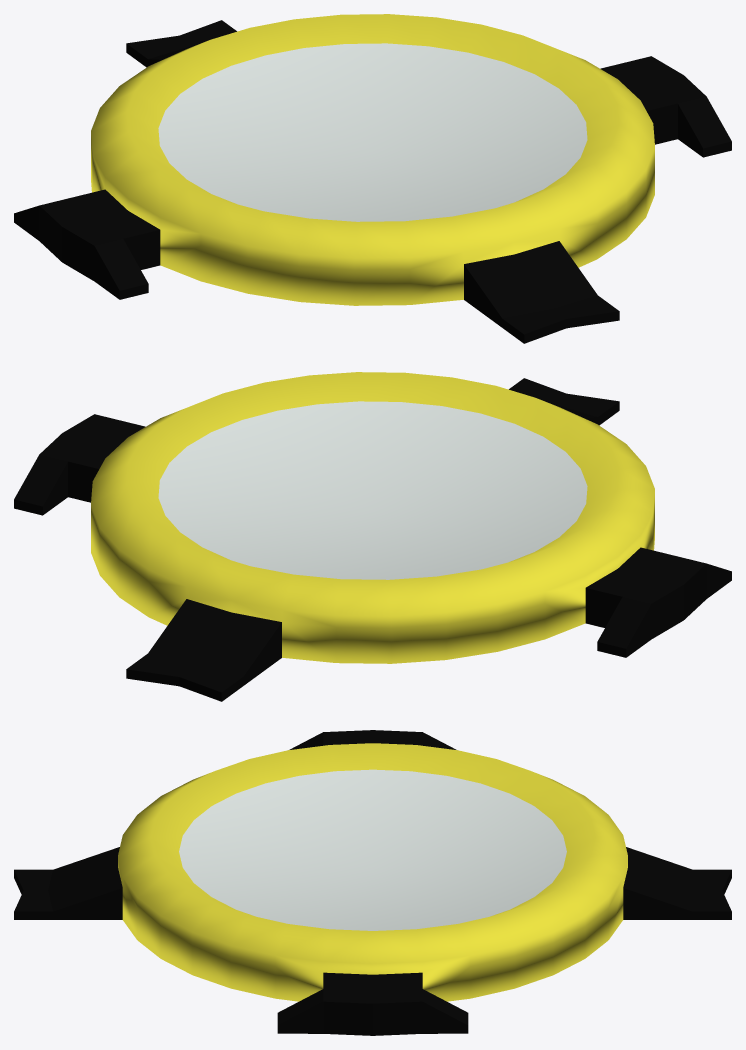
Rendered from LaserEmitter.glb.
The picture shows the model from 3 angles, top to bottom: view 1: azimuth 30°, elevation 25°; view 2: azimuth 150°, elevation 25°; view 3: azimuth 270°, elevation 25°; orthographic projection. The views are drawn at different scales.
Visible parts, largest first — view 1: LaserEmitter; view 2: LaserEmitter; view 3: LaserEmitter.
Part boxes in pixels (x1,y1,x2,y2): LaserEmitter: (14,14,731,343); LaserEmitter: (14,372,731,701); LaserEmitter: (14,730,731,1035).
Size of the model in its own units: 0.9895 by 0.1045 by 1.1.
